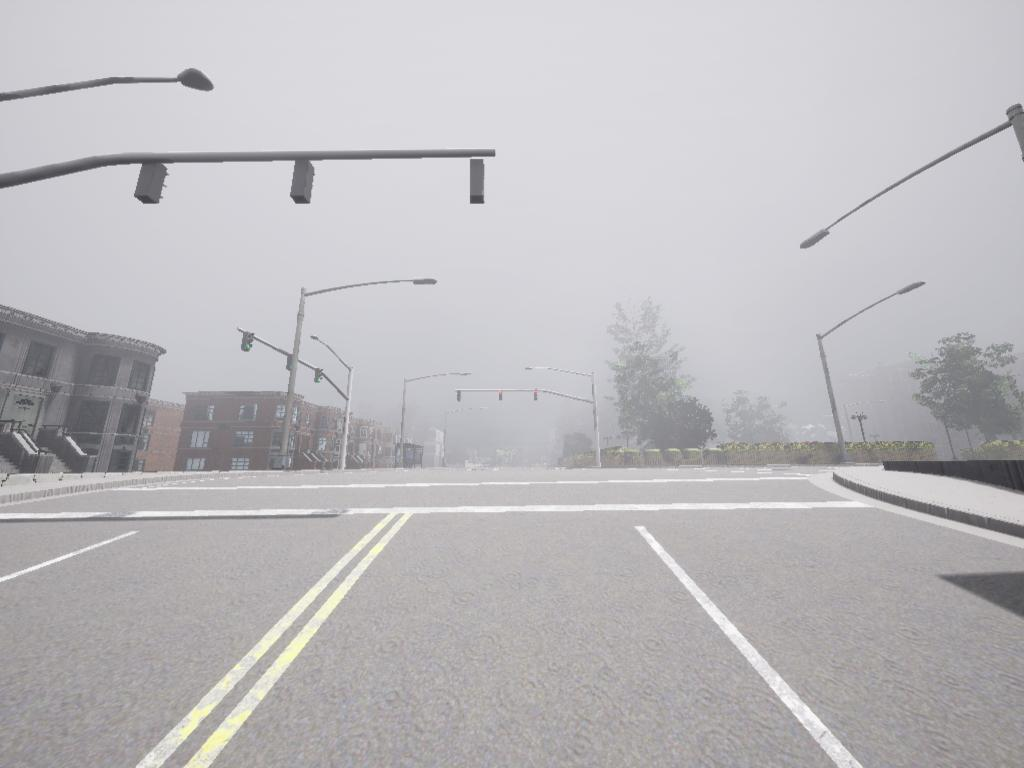traffic_light: (289, 155, 319, 207), (133, 165, 168, 206), (467, 159, 488, 206), (239, 331, 252, 352), (314, 369, 326, 387), (287, 353, 296, 375), (533, 388, 540, 404), (457, 391, 462, 405), (498, 392, 504, 403)
